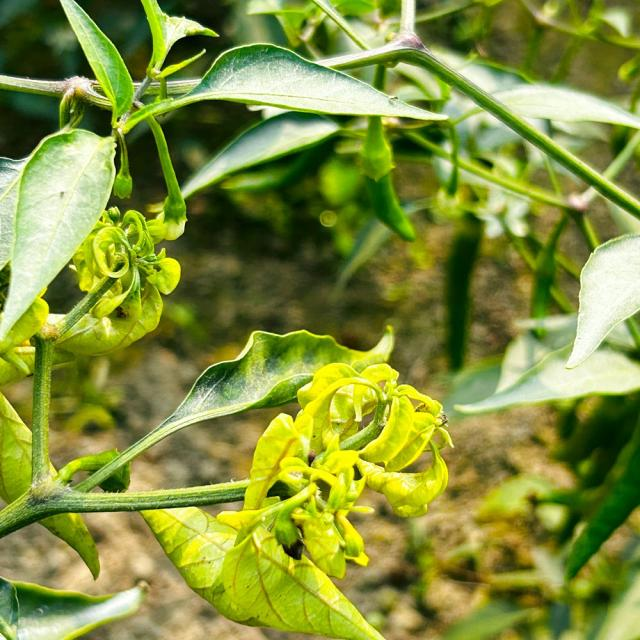Chilli_Leaf_Curl: (1, 1, 638, 638), (135, 354, 453, 638), (74, 324, 396, 493), (137, 502, 387, 639), (136, 40, 450, 127), (0, 126, 118, 348), (51, 205, 182, 356), (564, 232, 639, 370), (58, 0, 135, 125), (0, 576, 150, 638)
